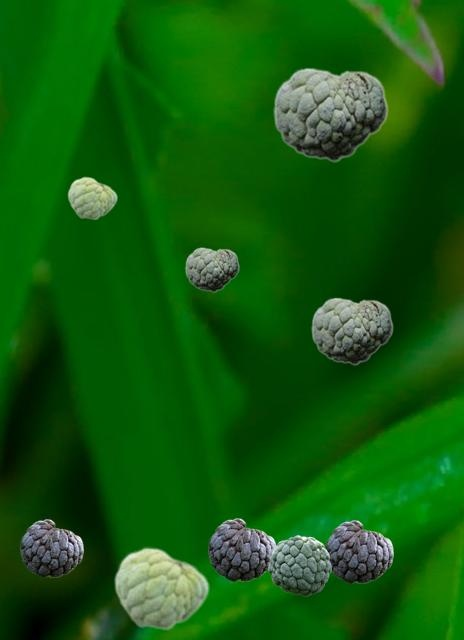atis: (273, 67, 387, 161), (113, 546, 208, 630), (311, 297, 392, 364), (208, 518, 275, 580), (325, 520, 392, 582), (268, 535, 330, 595), (20, 519, 82, 576), (185, 247, 238, 291), (67, 176, 116, 219)
